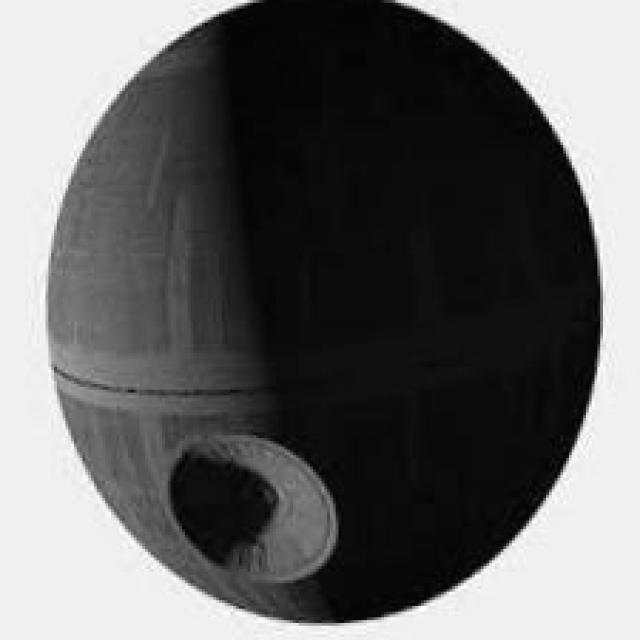deathstar: (45, 0, 606, 629)
